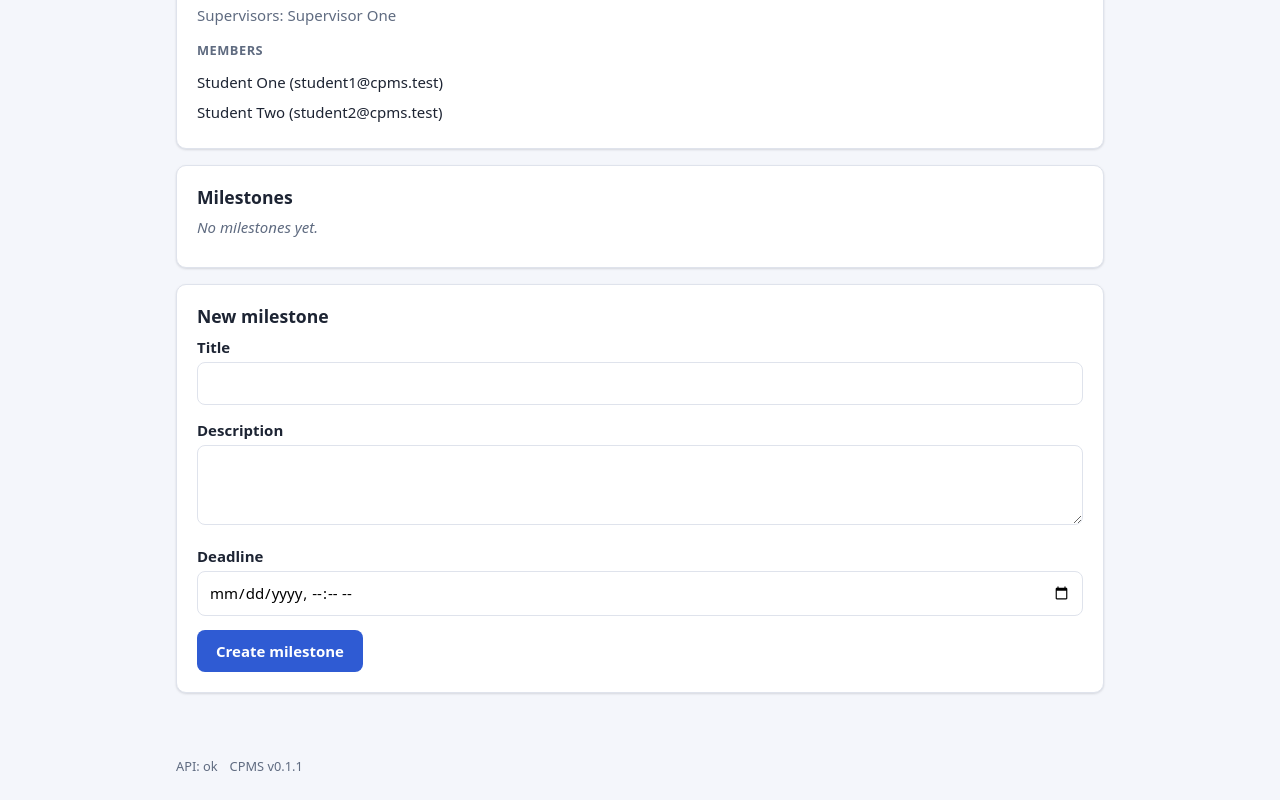
Test: F-02 Team view and milestone UI › TEST-02-15: supervisor sees API validation errors under each field
(page scrolled)
Click the button "Create milestone". click: click(280, 651)
box: [197,630,363,672]
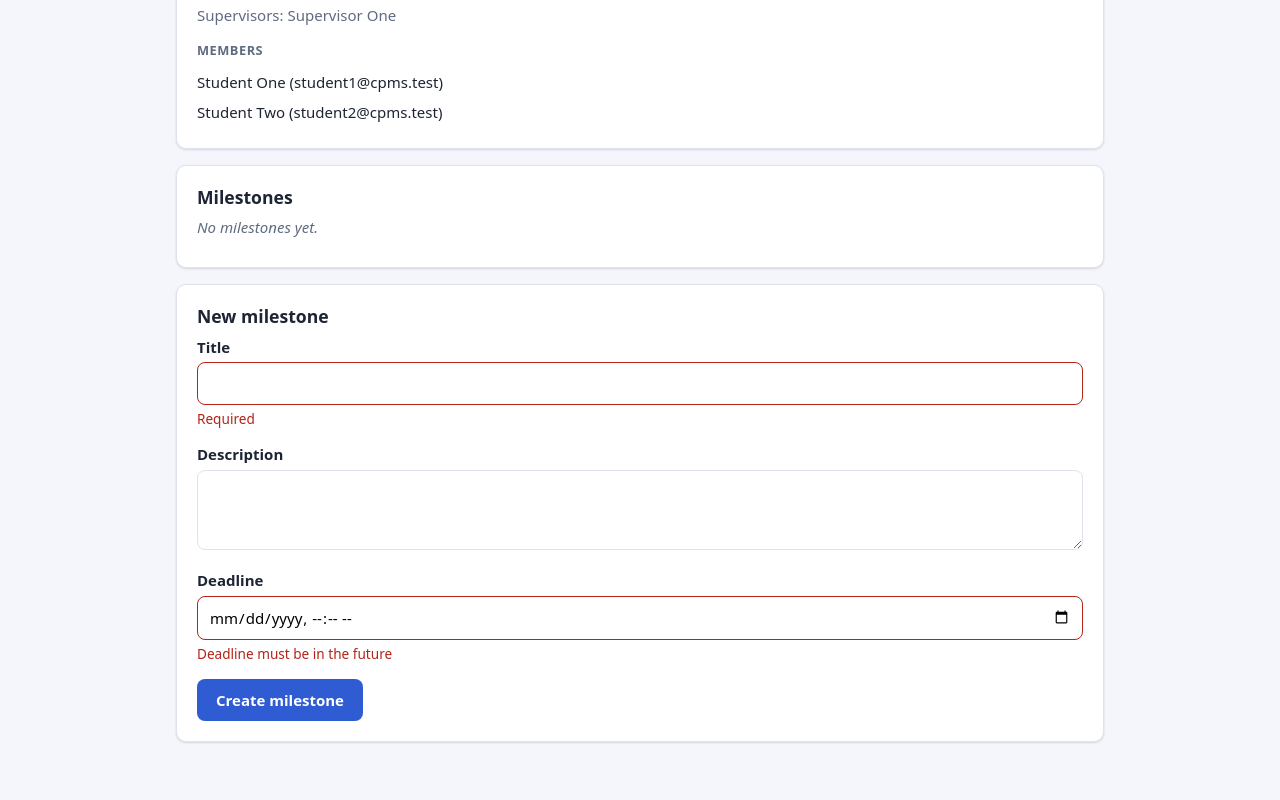
Result: the text "Required" is shown at [197,409,255,428]
Result: the text "Deadline must be in the future" is shown at [197,644,392,663]
